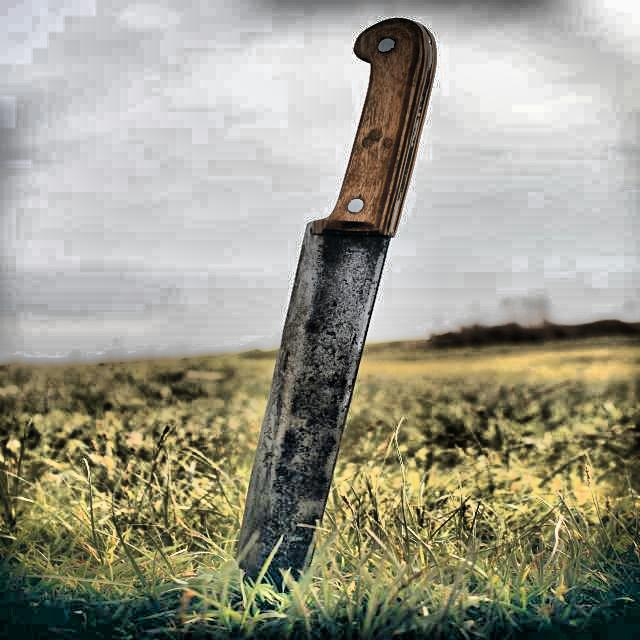knife: (223, 16, 447, 585)
